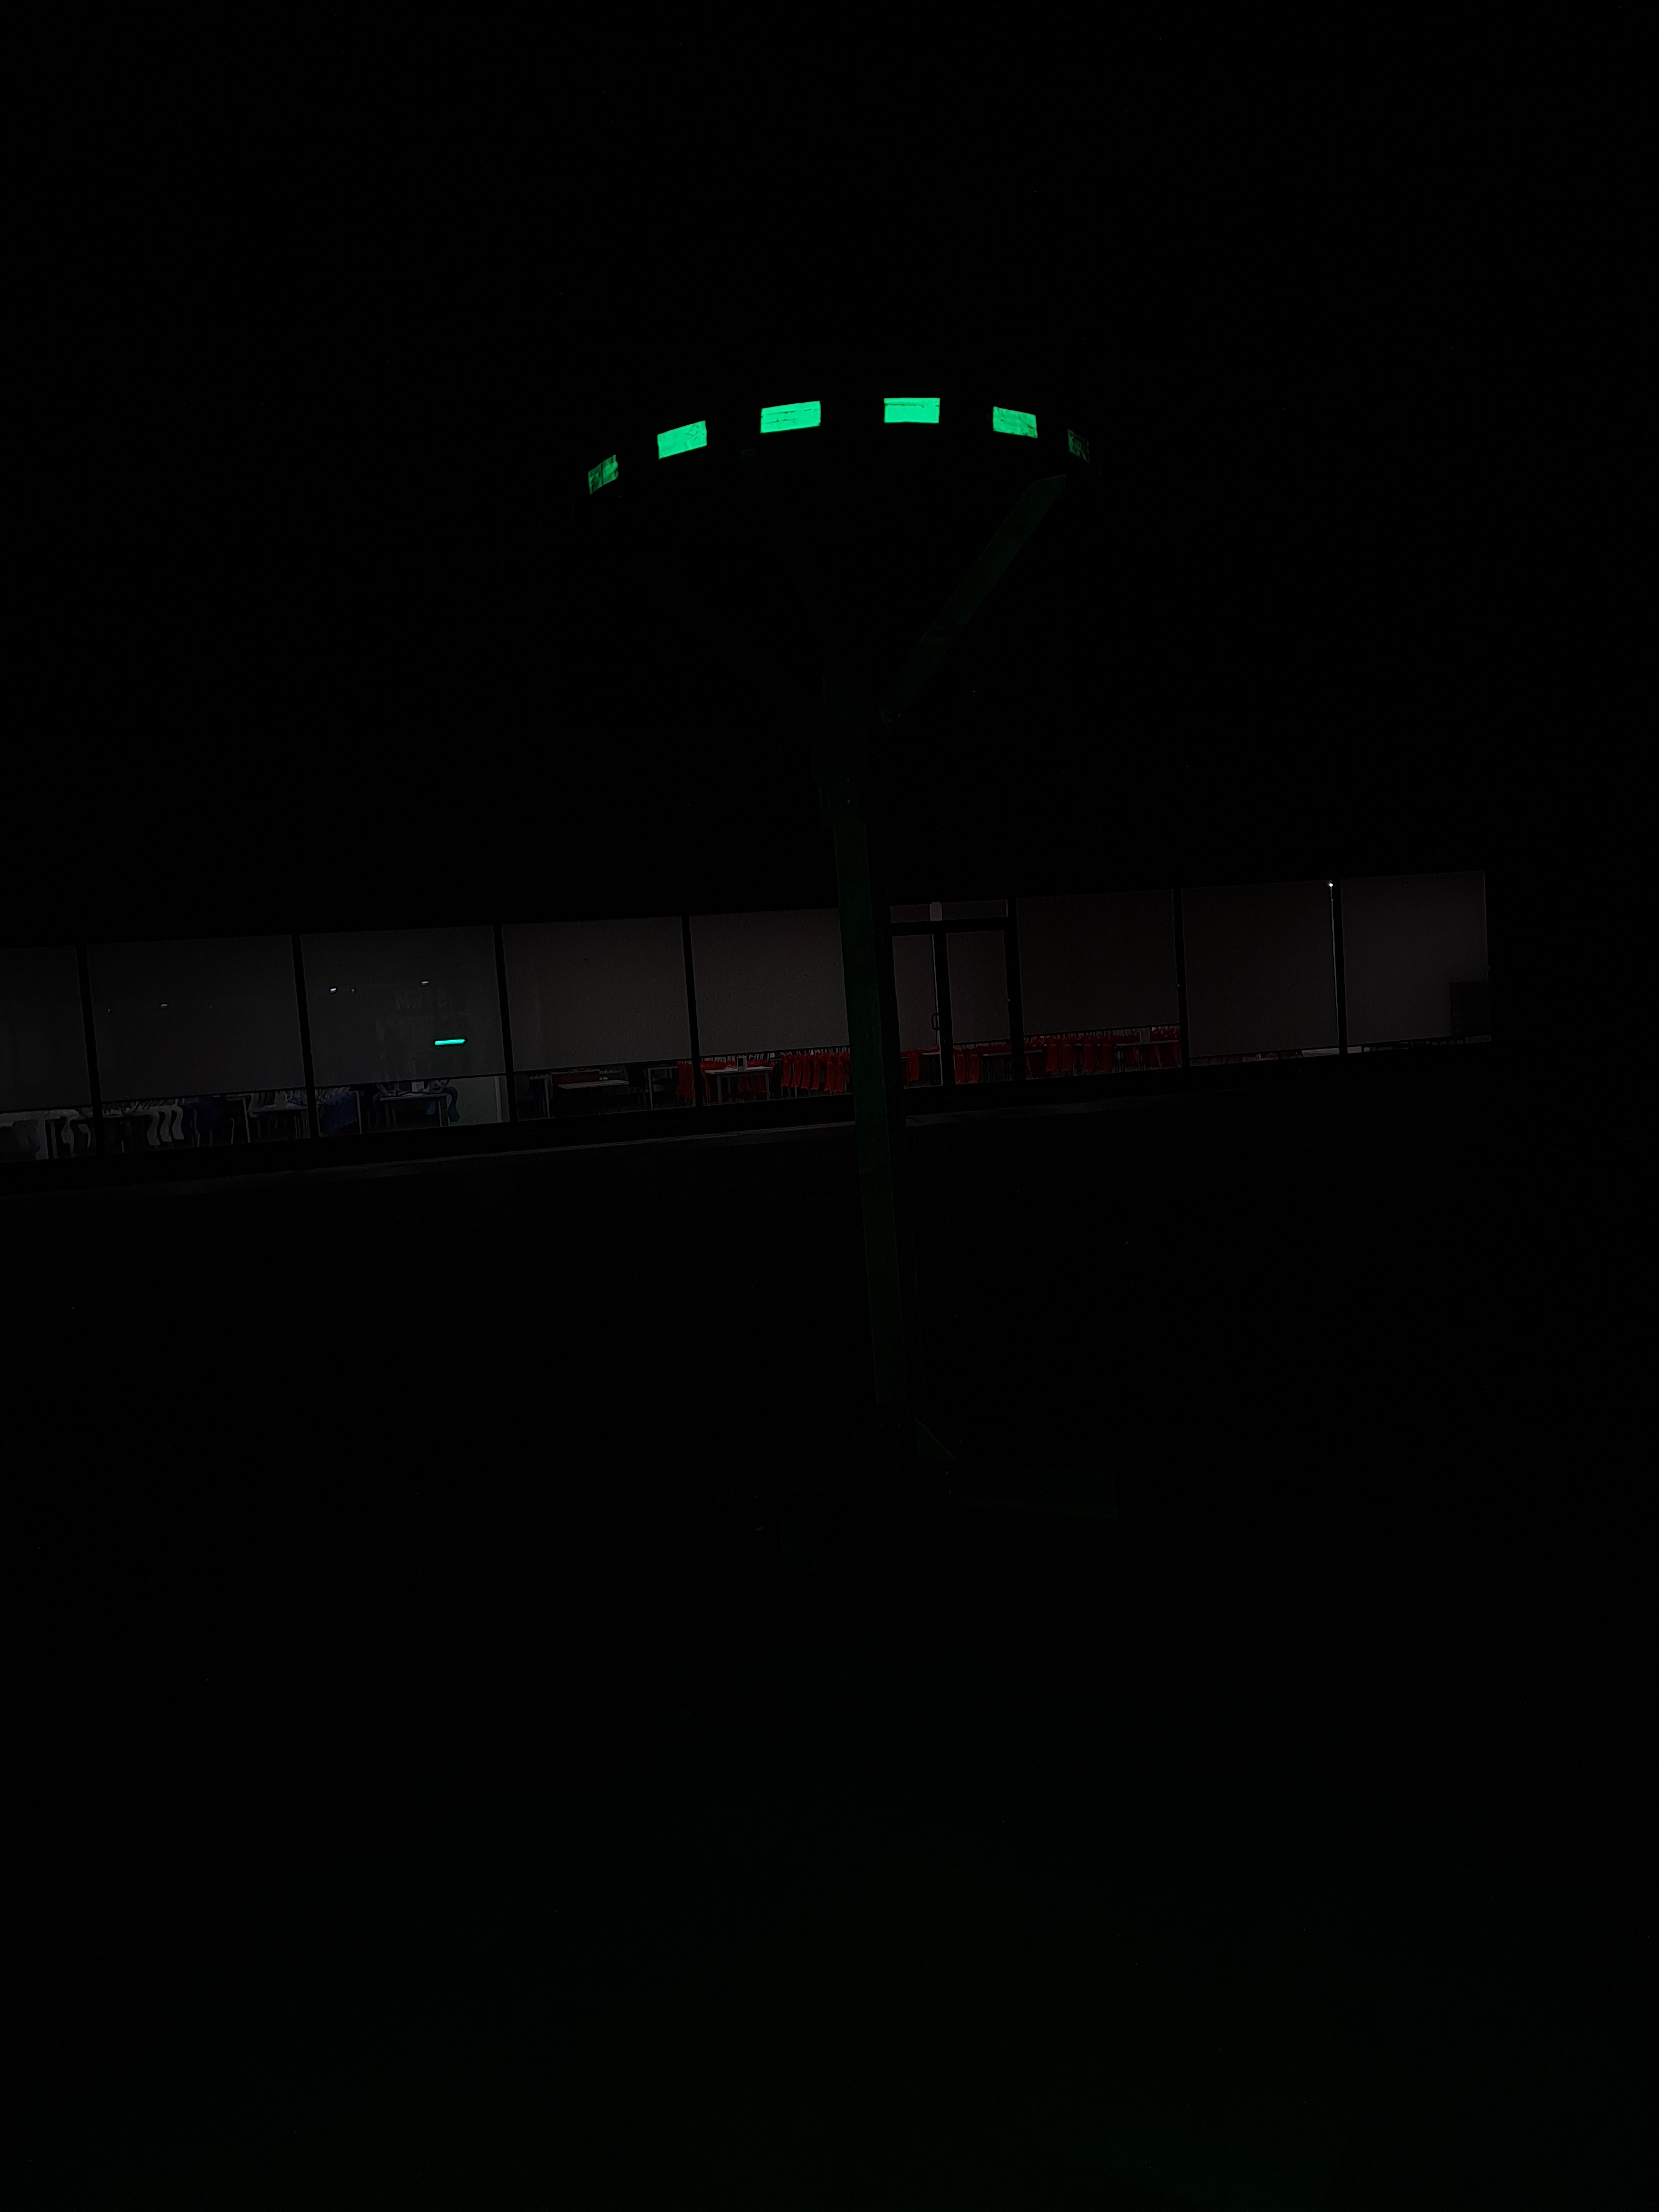hoop: (579, 395, 1047, 496)
